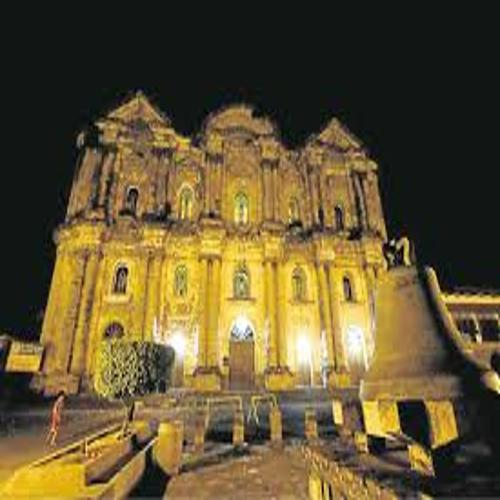Taal Basilica Church: (38, 83, 406, 396)
